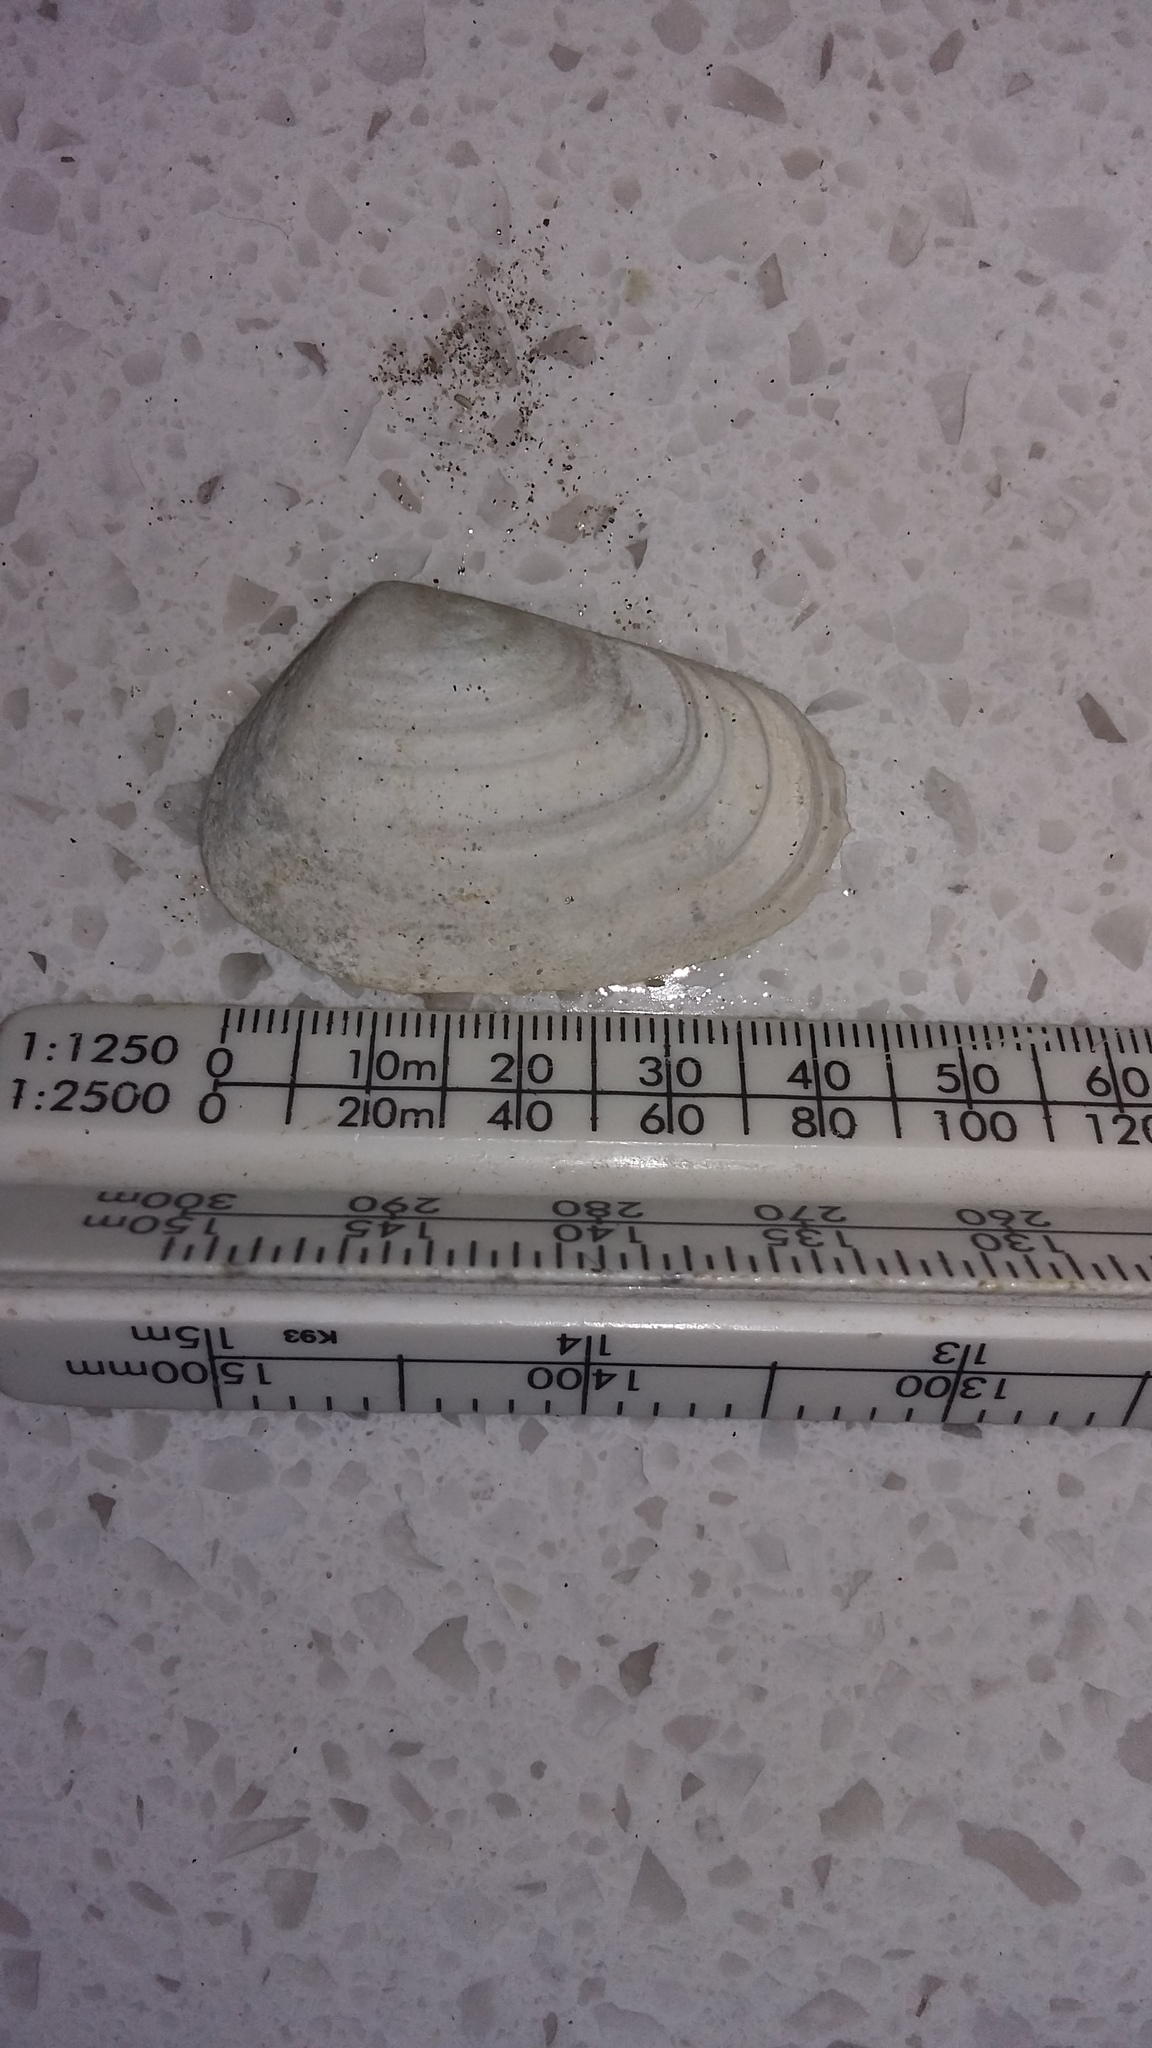tuatua: (186, 567, 858, 1001)
